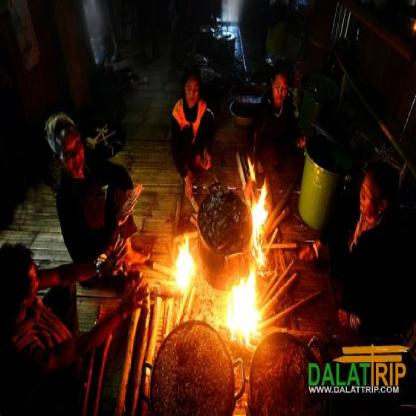fire: (229, 175, 280, 349), (175, 237, 197, 302)
